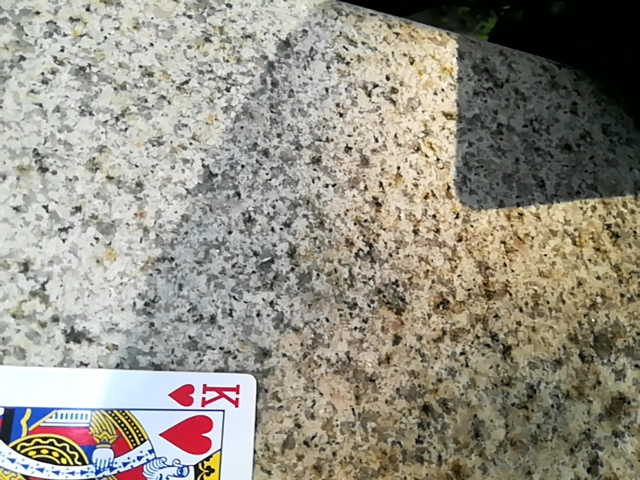hx k: (0, 365, 258, 479)
